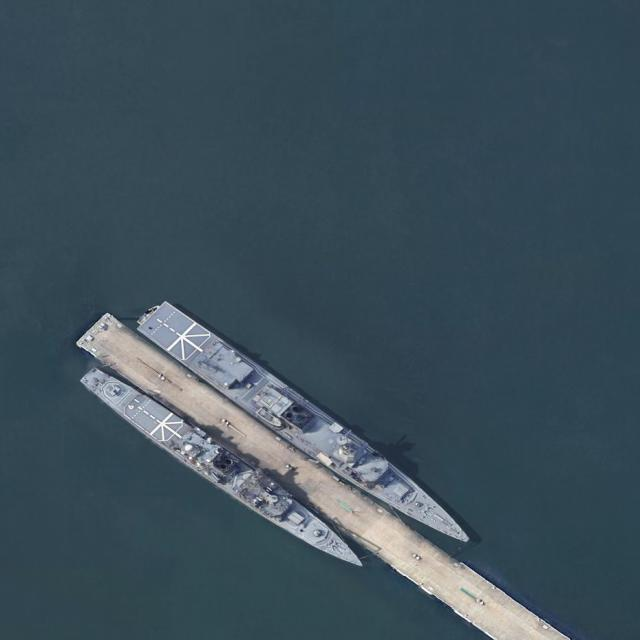Destroyer: (134, 297, 482, 559), (76, 358, 373, 581)
Other Ship: (136, 301, 161, 327)
